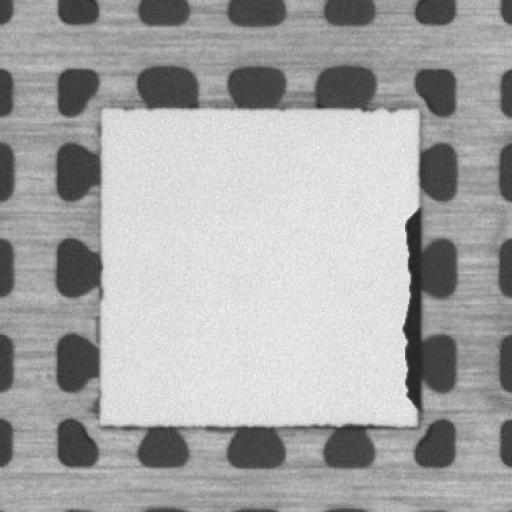DIE_BROKEN: (397, 203, 422, 412)
